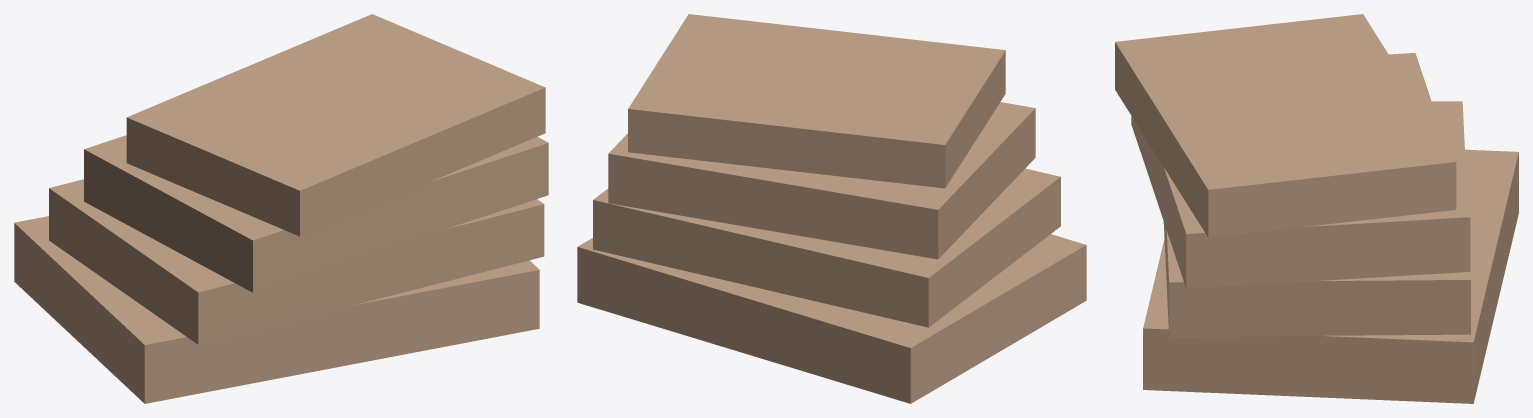
The model's file is sub_livros_altos.glb.
The picture shows the model from 3 angles, left to right: view 1: azimuth 30°, elevation 25°; view 2: azimuth 150°, elevation 25°; view 3: azimuth 270°, elevation 25°; orthographic projection. The views are drawn at different scales.
Visible parts, largest first — view 1: SUB_LivrosAltos_v01; view 2: SUB_LivrosAltos_v01; view 3: SUB_LivrosAltos_v01.
Boxes of the visible parts, x1,y1,x2,y2 form: SUB_LivrosAltos_v01: (14, 14, 548, 403); SUB_LivrosAltos_v01: (577, 14, 1086, 403); SUB_LivrosAltos_v01: (1115, 14, 1518, 403).
Size of the model in its own units: 0.3281 by 0.16 by 0.2674.
